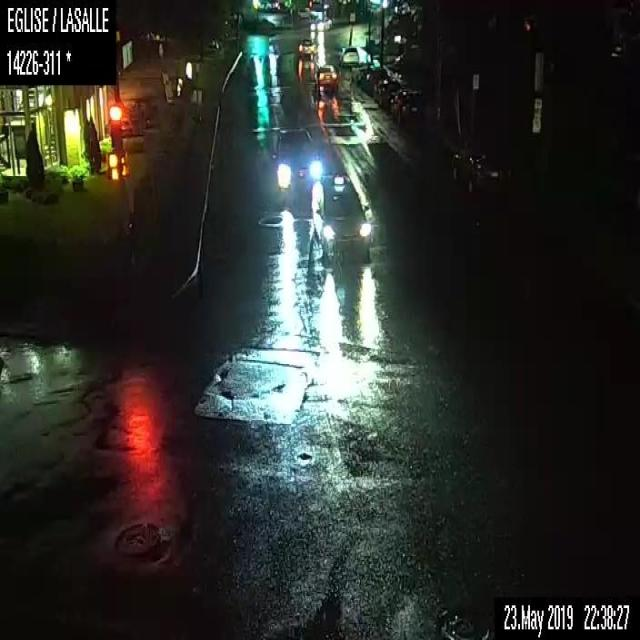vehicle: (310, 172, 373, 249), (271, 125, 319, 193), (448, 143, 503, 193), (390, 86, 424, 126), (372, 75, 400, 107), (349, 59, 373, 84), (312, 62, 335, 86), (338, 43, 358, 67), (309, 16, 332, 33), (298, 38, 316, 56)
